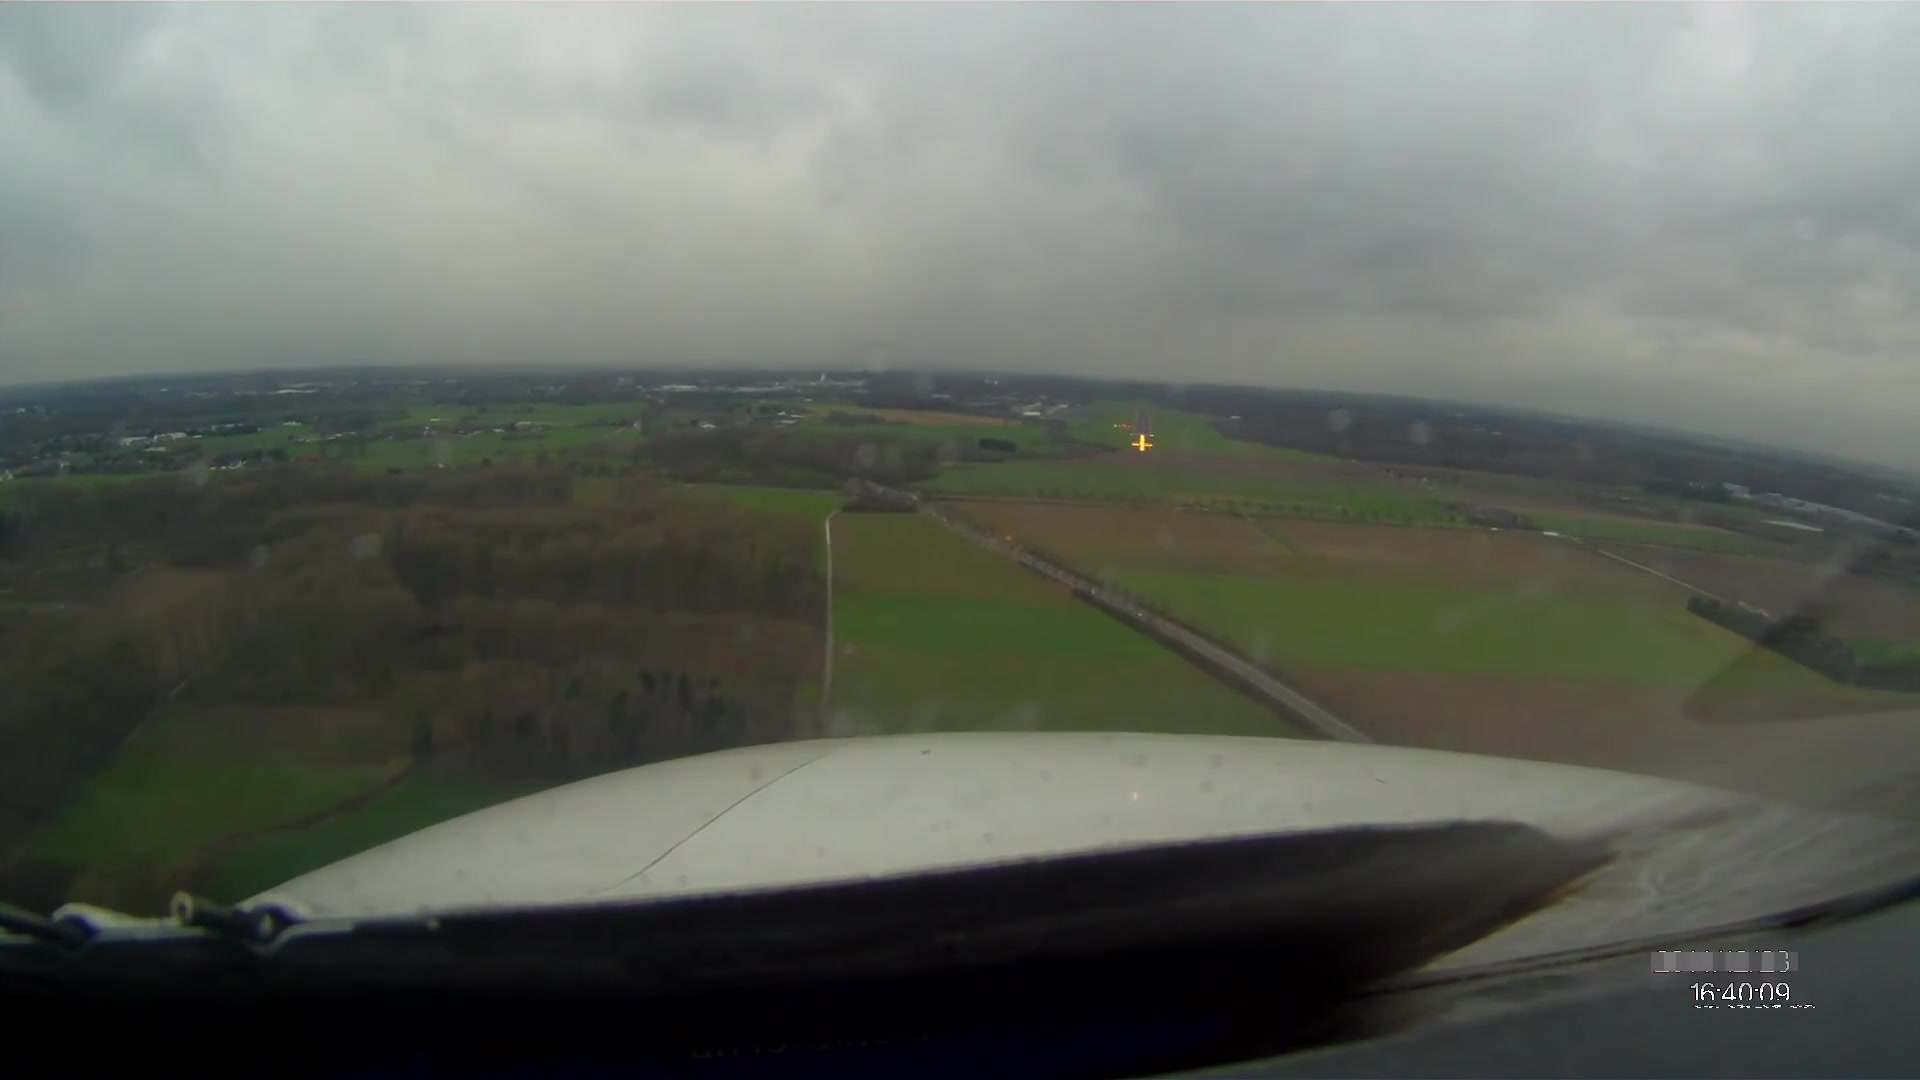runway: (1131, 409, 1155, 438)
